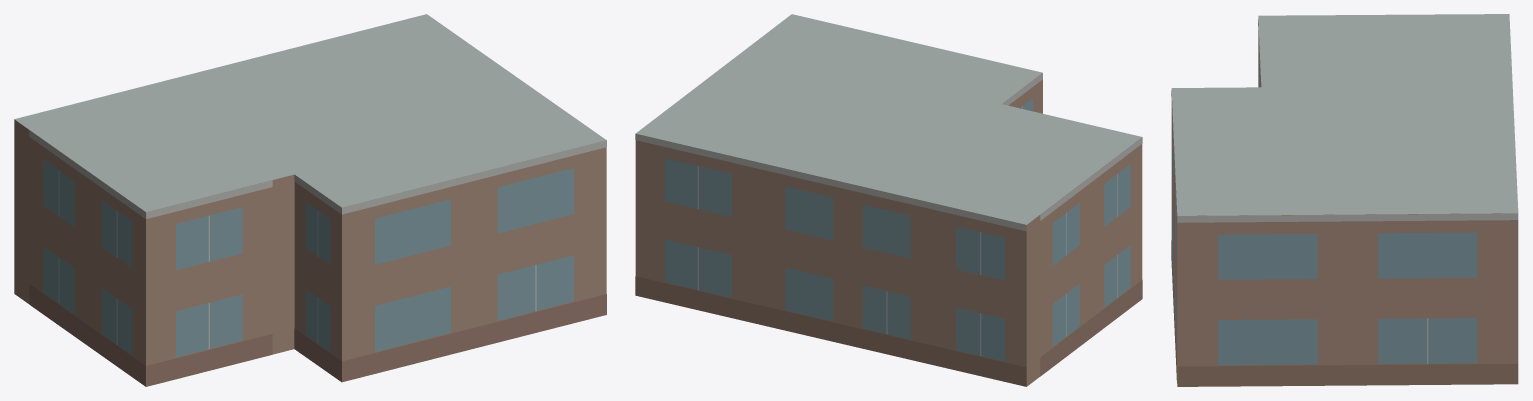
File: survey-upis-32995484.glb
The picture shows the model from 3 angles, left to right: view 1: azimuth 30°, elevation 25°; view 2: azimuth 150°, elevation 25°; view 3: azimuth 270°, elevation 25°; orthographic projection. The views are drawn at different scales.
Visible parts, largest first — view 1: survey-upis-32995484.tmp; view 2: survey-upis-32995484.tmp; view 3: survey-upis-32995484.tmp.
Boxes of the visible parts, <box> form: survey-upis-32995484.tmp: <box>14,14,606,386</box>; survey-upis-32995484.tmp: <box>635,14,1142,386</box>; survey-upis-32995484.tmp: <box>1171,14,1518,386</box>.
Size of the model in its own units: 15.46 by 6.1 by 11.23.
